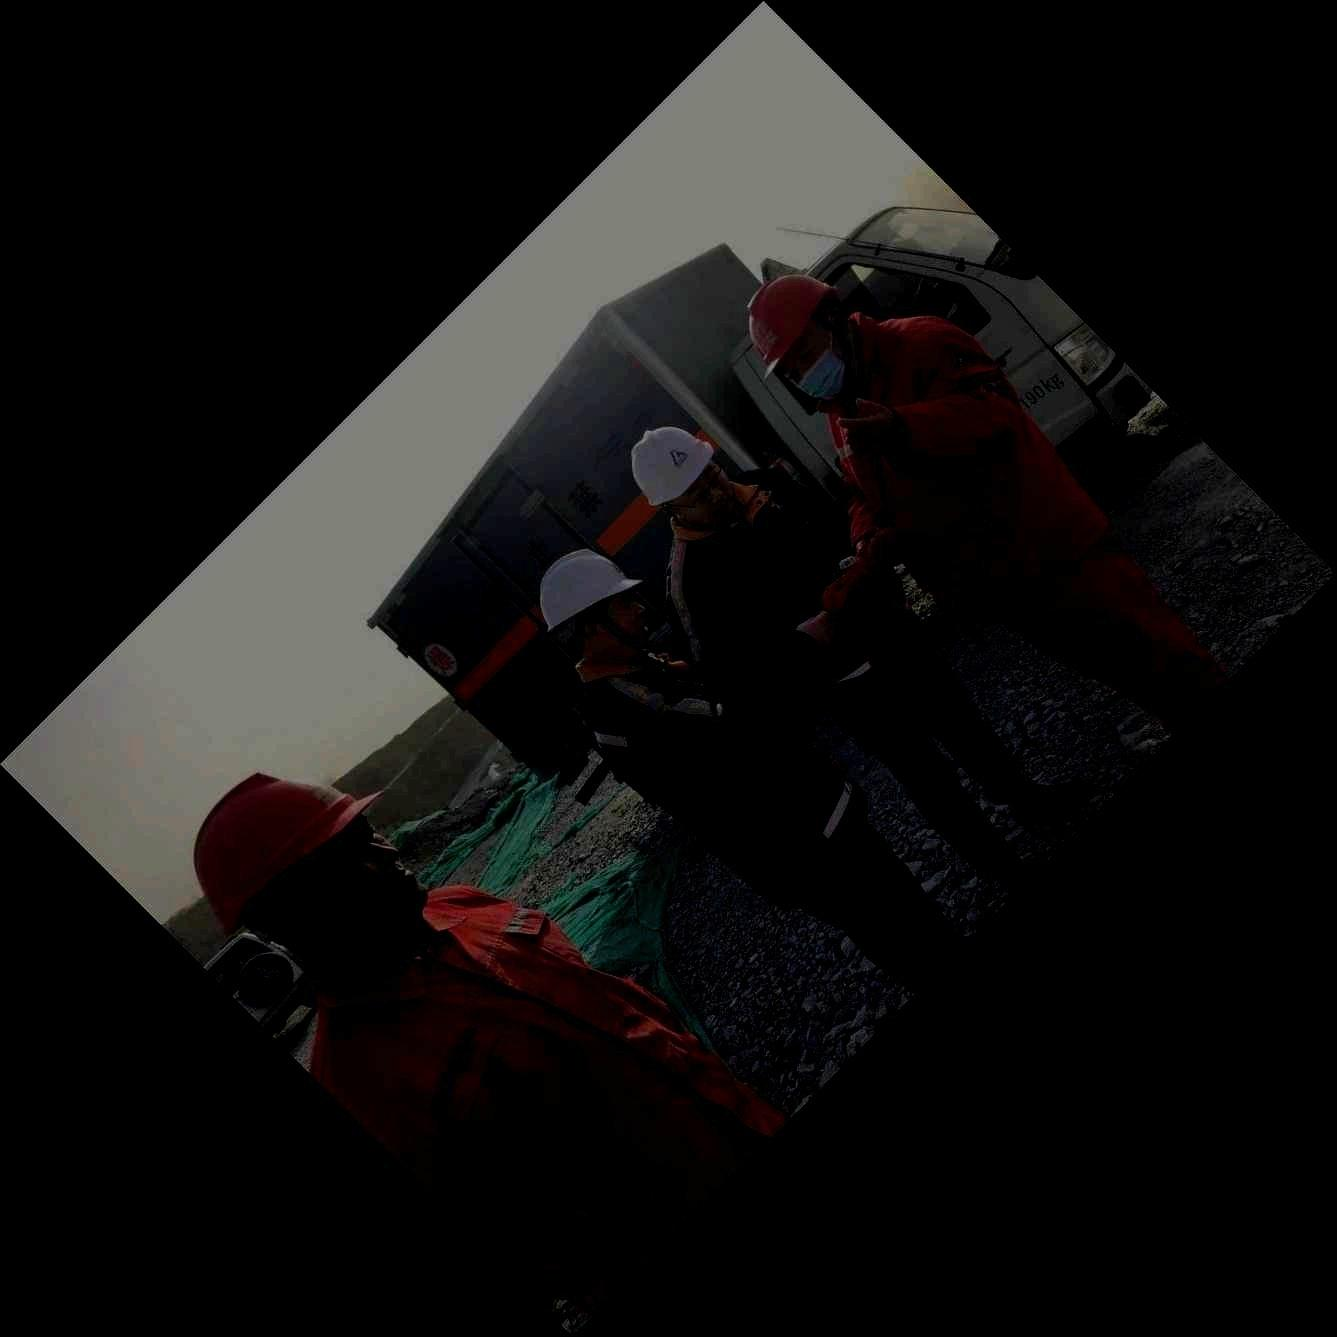helmet: (192, 771, 429, 946), (747, 273, 853, 399), (539, 549, 648, 662), (631, 427, 733, 526)
